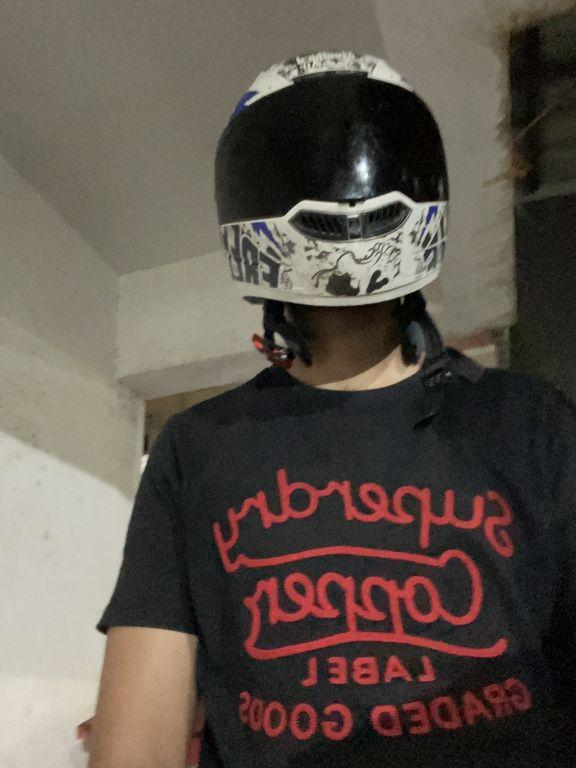helmet: (205, 42, 462, 344)
